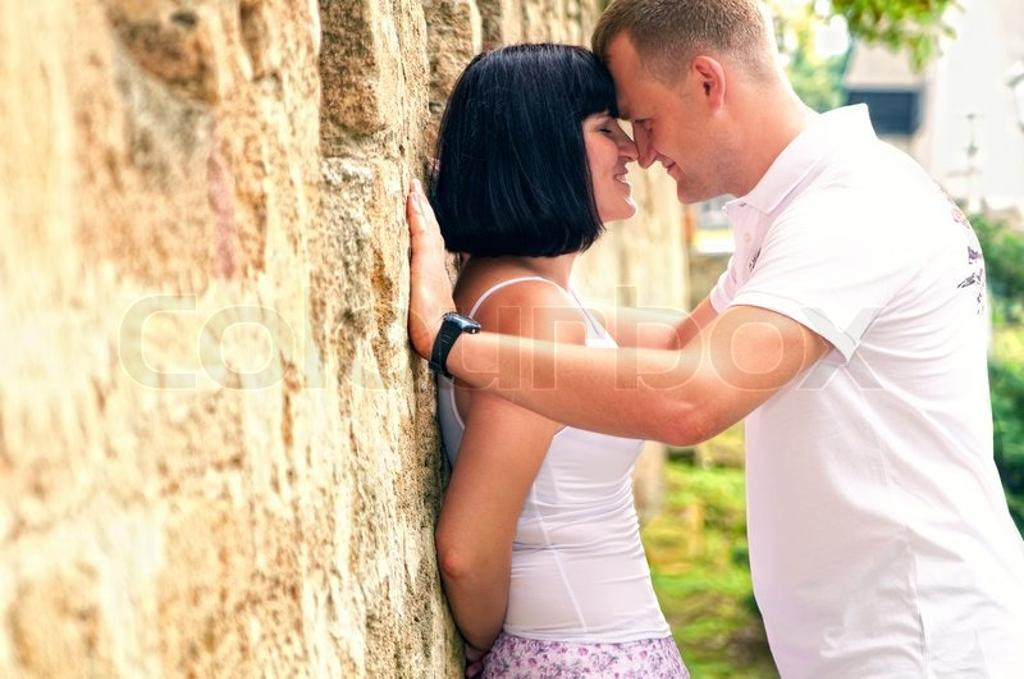face: (606, 42, 714, 202), (572, 68, 640, 218)
